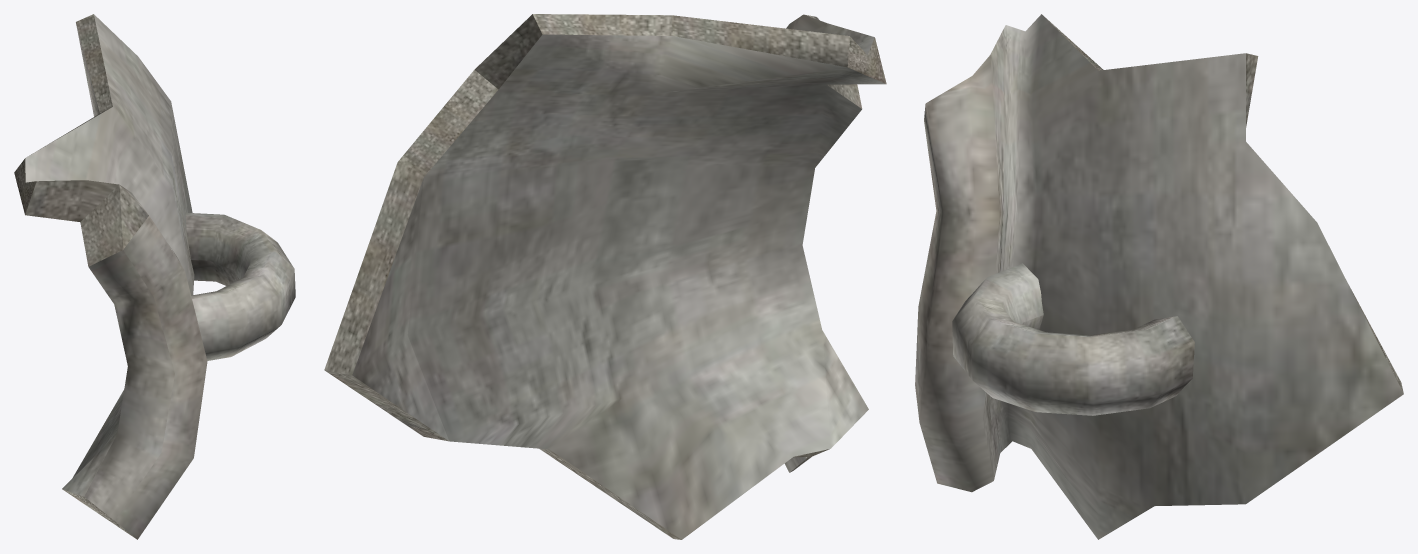
The model's file is egypt_prop_vase_br3_interior.glb.
The picture shows the model from 3 angles, left to right: view 1: azimuth 30°, elevation 25°; view 2: azimuth 150°, elevation 25°; view 3: azimuth 270°, elevation 25°; orthographic projection. The views are drawn at different scales.
Bounding box in the file's own units: 17.13 × 24.63 × 21.29.
Materials: 1 (1 with a texture image).
